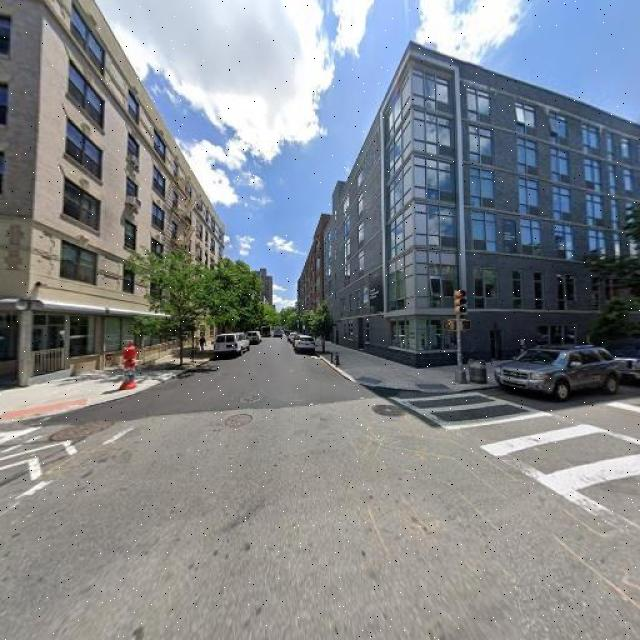Building: (325, 37, 640, 368), (1, 1, 222, 389)
